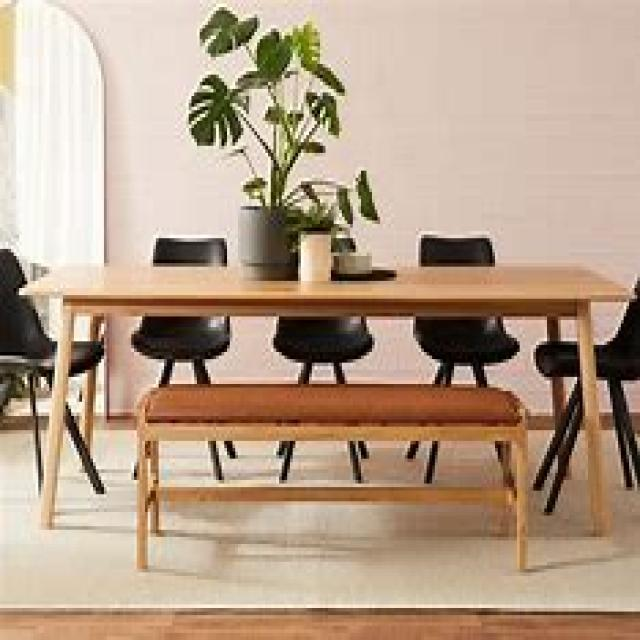chair: (531, 242, 637, 516), (404, 231, 520, 480), (129, 235, 235, 480), (0, 246, 104, 494), (271, 235, 372, 480)
table: (16, 260, 634, 540)
